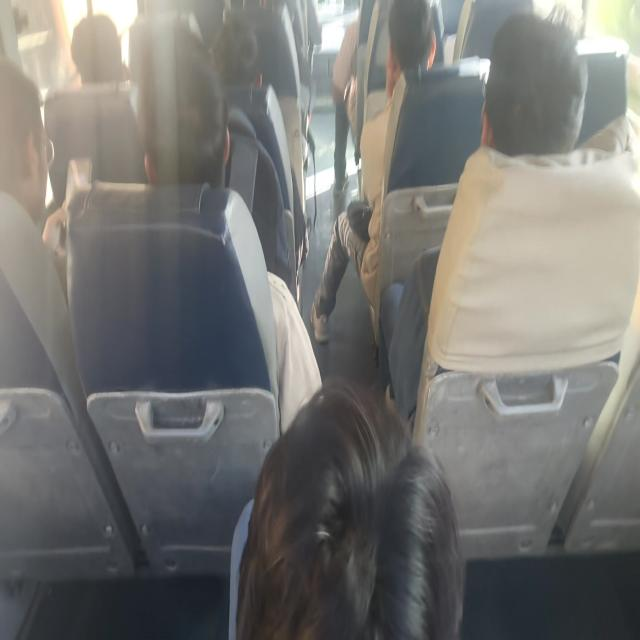person: (64, 14, 323, 434), (379, 8, 638, 423), (229, 379, 464, 638), (309, 0, 436, 345), (0, 54, 80, 404), (331, 11, 360, 196), (70, 13, 126, 86)
